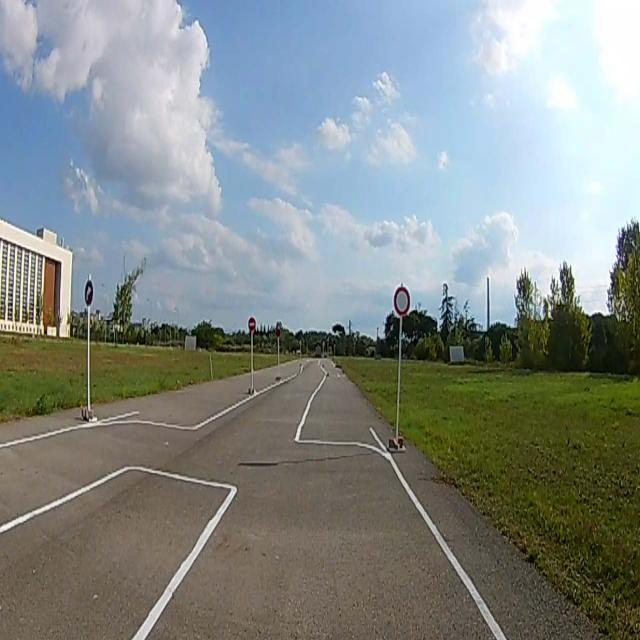girisyok: (248, 318, 255, 331)
sag: (85, 281, 94, 304)
